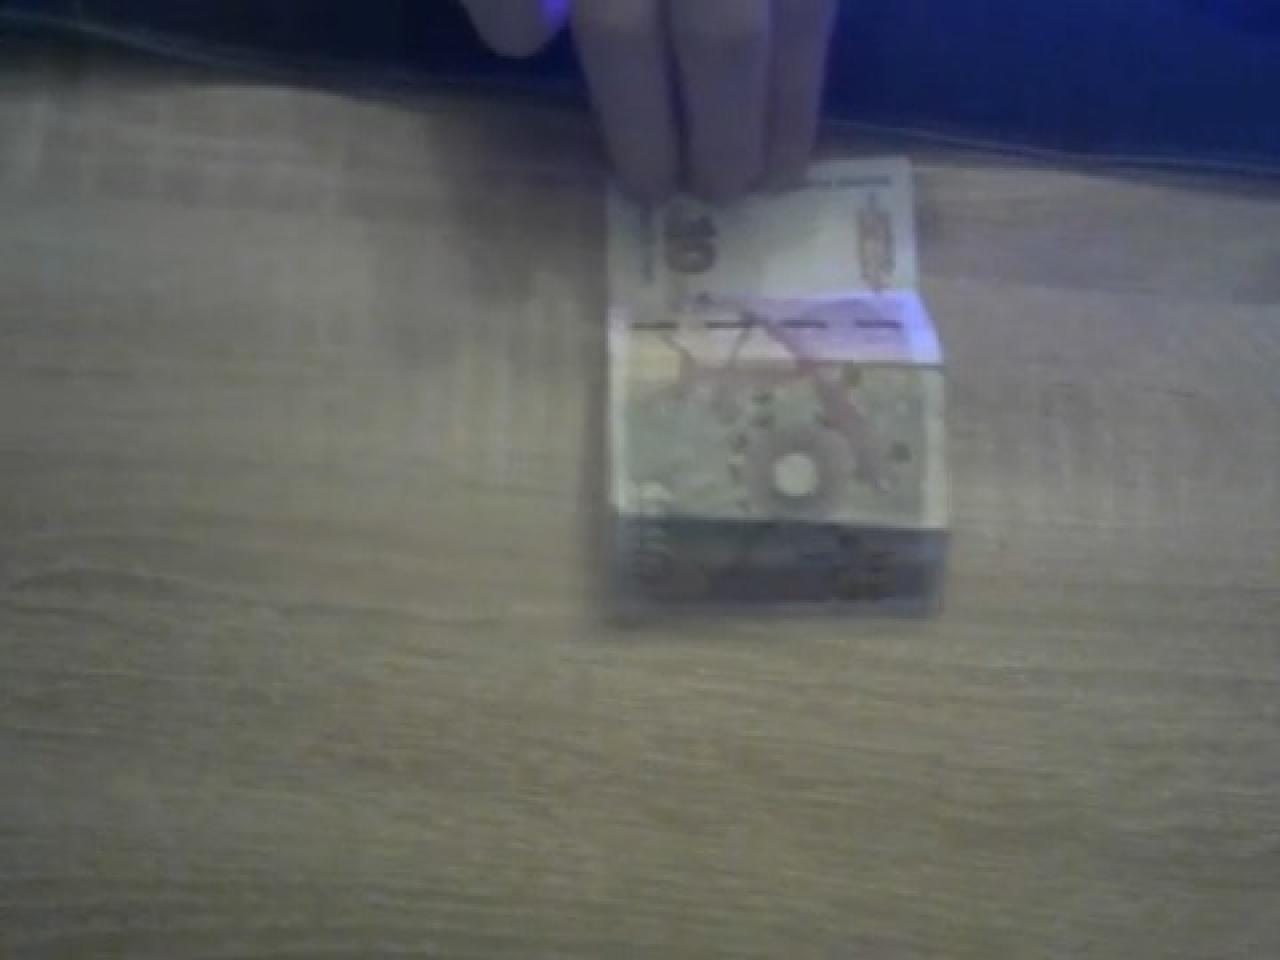10leva: (611, 157, 954, 608)
